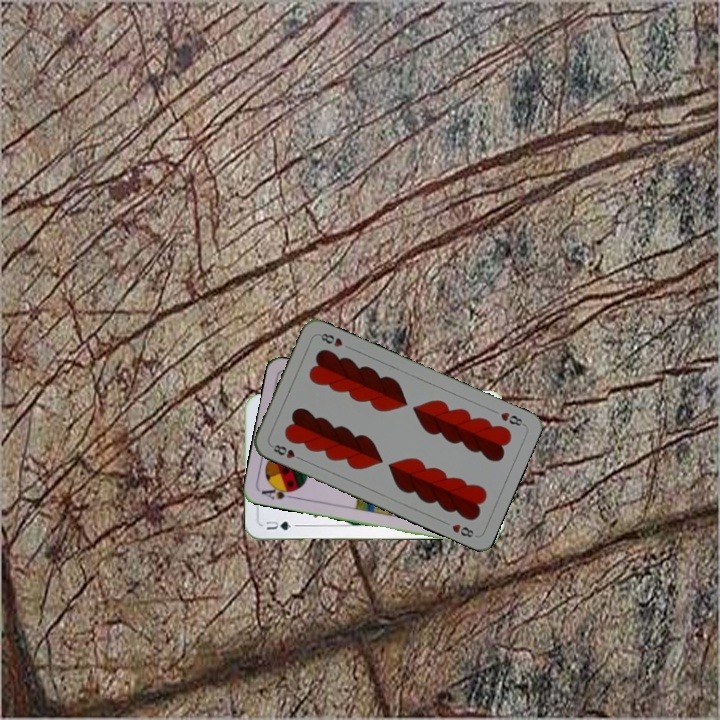GU: (261, 517, 293, 533)
H8: (267, 440, 306, 463), (496, 408, 527, 429)
SA: (257, 481, 299, 502)
